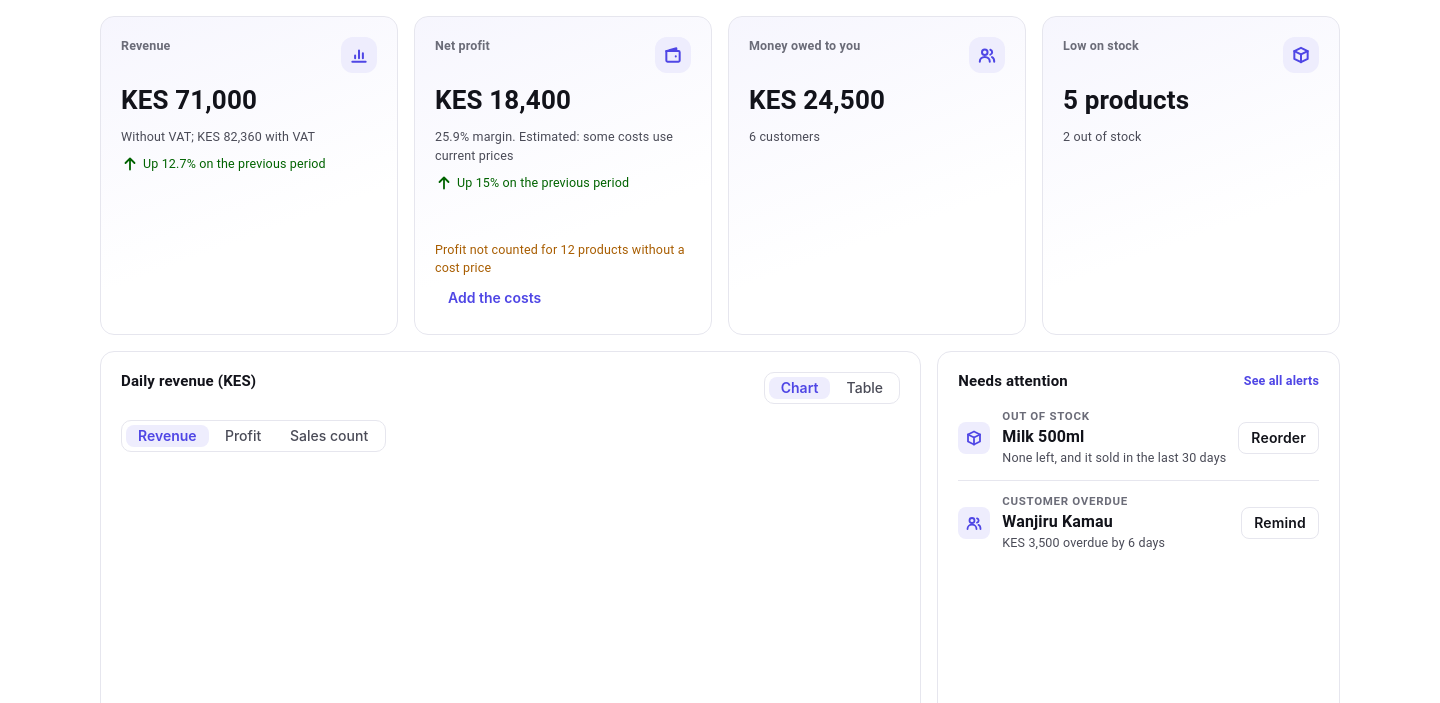
Scenario: Home for an owner › Net profit says how many products are not counted, and the line opens the list (AC-13, P2-7)
(page scrolled)
Check: the text "Profit not counted for 12 products without a cost price" is shown, box [435,240,691,278]
Click the button "Add the costs" at (495, 298), box [435,282,554,314]
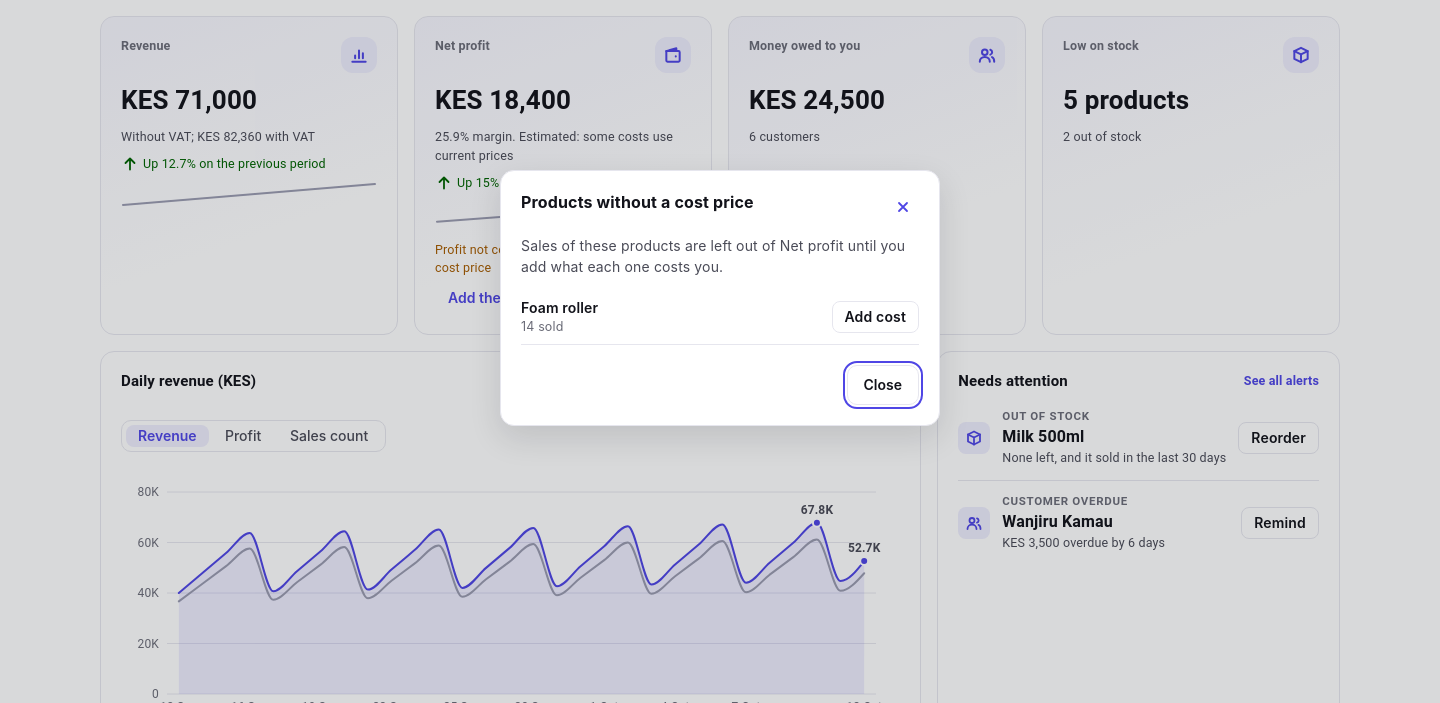
Check: the text "Foam roller" is shown, box [521,297,598,318]
Check: the text "14 sold" is shown, box [521,319,564,334]
